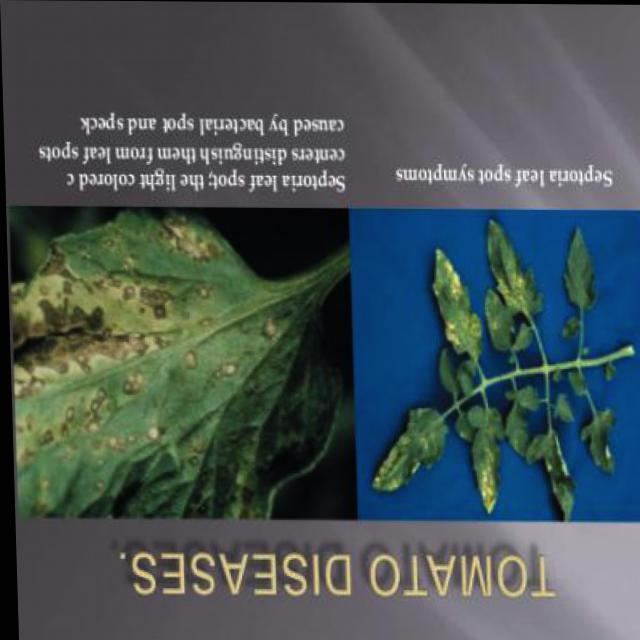Tomato Septoria spot leaf: (12, 211, 340, 510), (366, 390, 449, 503), (462, 217, 544, 320), (426, 248, 490, 364), (459, 392, 508, 516)
